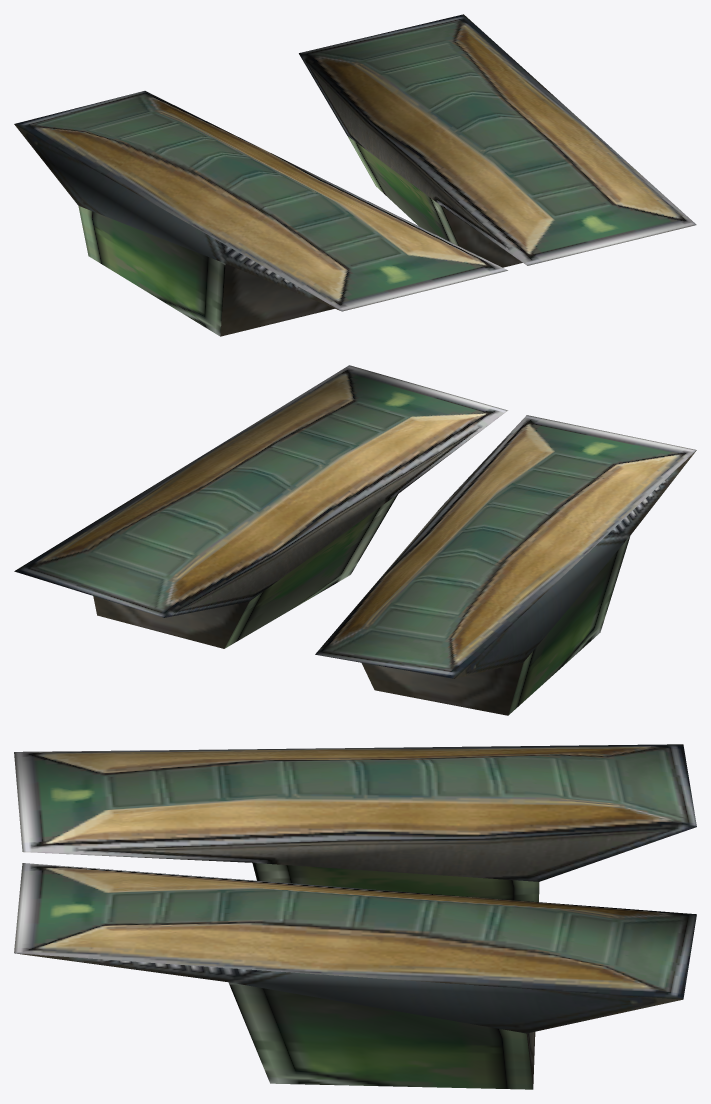
Rendered from ArmPads4.glb.
3 renders of one model, top to bottom at view 1: azimuth 30°, elevation 25°; view 2: azimuth 150°, elevation 25°; view 3: azimuth 270°, elevation 25°, orthographic. The views are drawn at different scales.
Visible parts, largest first — view 1: ArmPads4; view 2: ArmPads4; view 3: ArmPads4.
Part boxes in pixels (<box>): ArmPads4: <box>14,14,696,336</box>; ArmPads4: <box>14,365,696,715</box>; ArmPads4: <box>14,744,696,1089</box>.
Bounding box in the file's own units: 15.19 × 3.86 × 17.06.
1 material, 1 textured.
